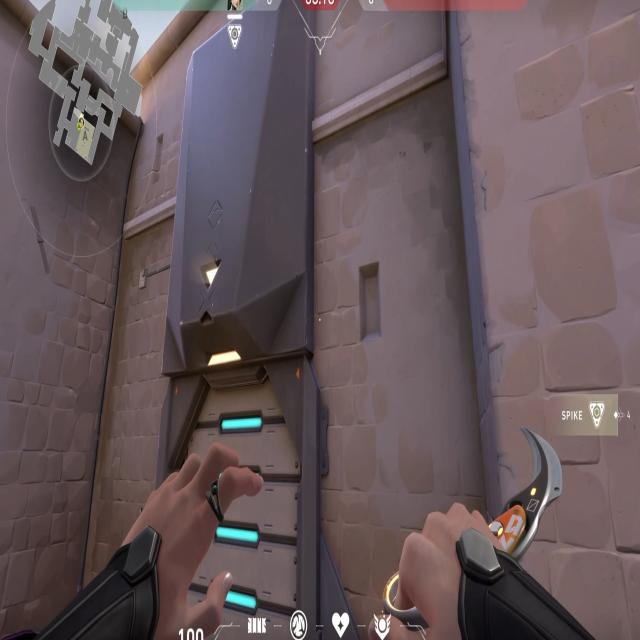A_Door: (163, 379, 305, 640)
